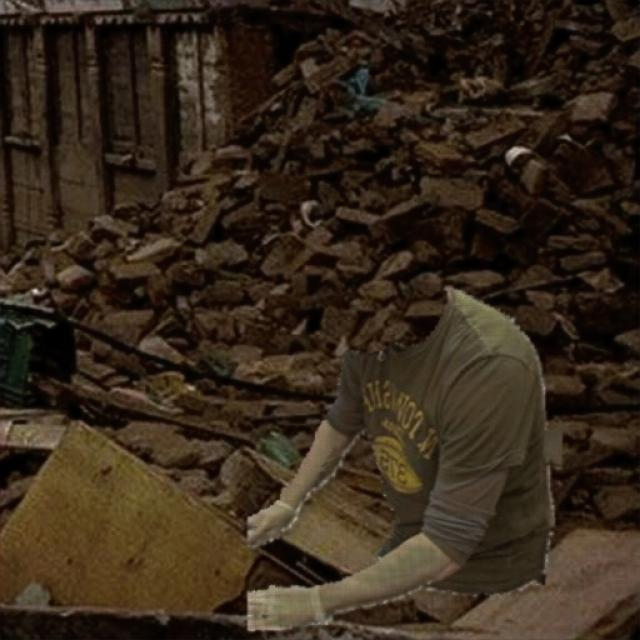Person in Rubble: (248, 286, 562, 630)
